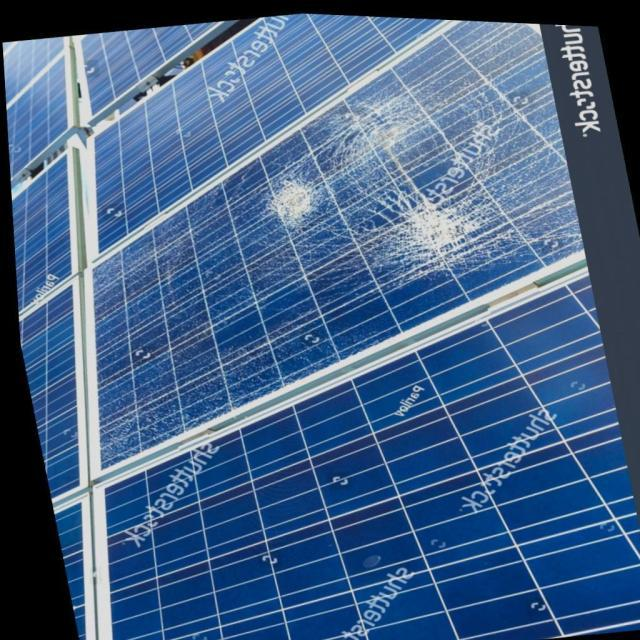cracked: (106, 21, 572, 460)
